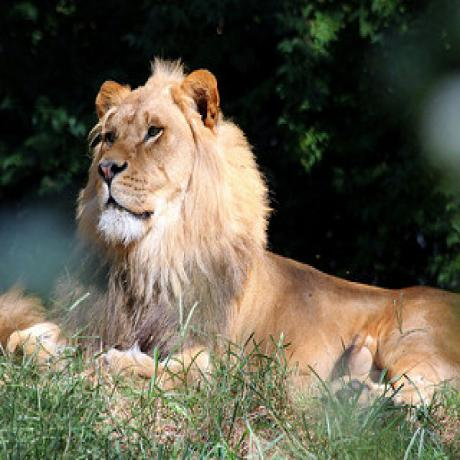Lion: (6, 53, 460, 427)
